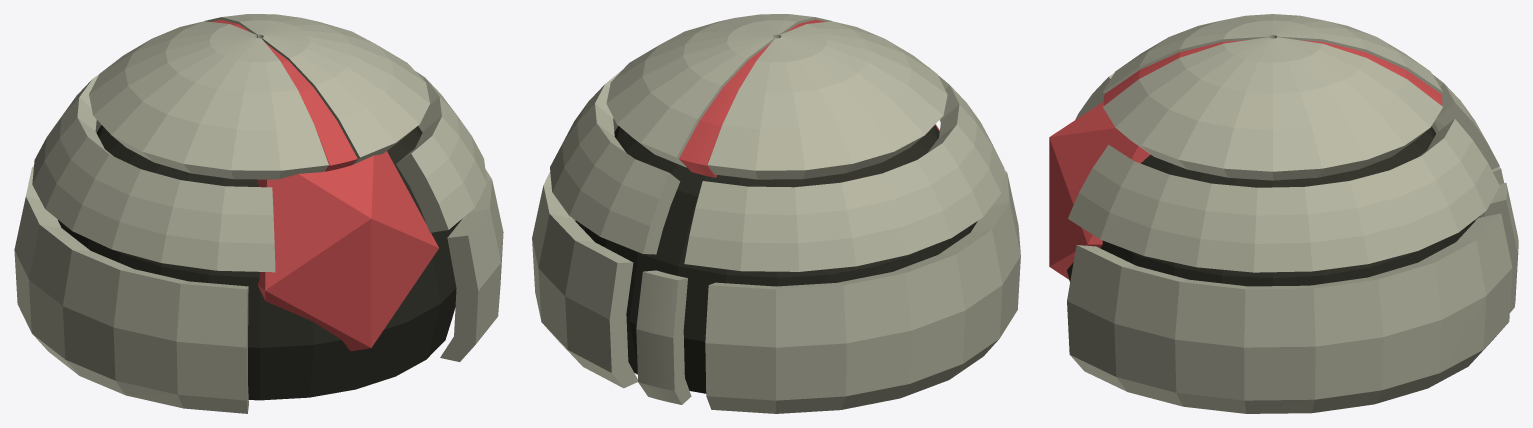
Rendered from vge_mech_grav_engine_orb.obj.
3 renders of one model, left to right at view 1: azimuth 30°, elevation 25°; view 2: azimuth 150°, elevation 25°; view 3: azimuth 270°, elevation 25°, orthographic.
Parts seen in each view (by area): view 1: vge_mech_grav_engine_orb_6, vge_mech_grav_engine_orb_2, vge_mech_grav_engine_orb_1, vge_mech_grav_engine_orb_4, vge_mech_grav_engine_orb_0, vge_mech_grav_engine_orb_3, vge_mech_grav_engine_orb_5, vge_mech_grav_engine_orb_7, vge_mech_grav_engine_orb_10; view 2: vge_mech_grav_engine_orb_6, vge_mech_grav_engine_orb_4, vge_mech_grav_engine_orb_2, vge_mech_grav_engine_orb_0, vge_mech_grav_engine_orb_3, vge_mech_grav_engine_orb_7, vge_mech_grav_engine_orb_5, vge_mech_grav_engine_orb_8, vge_mech_grav_engine_orb_9; view 3: vge_mech_grav_engine_orb_7, vge_mech_grav_engine_orb_5, vge_mech_grav_engine_orb_3, vge_mech_grav_engine_orb_0, vge_mech_grav_engine_orb_2, vge_mech_grav_engine_orb_1, vge_mech_grav_engine_orb_4, vge_mech_grav_engine_orb_8, vge_mech_grav_engine_orb_9, vge_mech_grav_engine_orb_10.
Part boxes in pixels (left/top/right/bottom): vge_mech_grav_engine_orb_6: left=14, top=132, right=248, bottom=413; vge_mech_grav_engine_orb_2: left=89, top=21, right=328, bottom=179; vge_mech_grav_engine_orb_1: left=257, top=151, right=438, bottom=351; vge_mech_grav_engine_orb_4: left=32, top=74, right=275, bottom=272; vge_mech_grav_engine_orb_0: left=58, top=125, right=460, bottom=400; vge_mech_grav_engine_orb_3: left=204, top=14, right=429, bottom=164; vge_mech_grav_engine_orb_5: left=396, top=71, right=486, bottom=232; vge_mech_grav_engine_orb_7: left=440, top=169, right=503, bottom=361; vge_mech_grav_engine_orb_10: left=265, top=43, right=357, bottom=171; vge_mech_grav_engine_orb_6: left=705, top=169, right=1020, bottom=413; vge_mech_grav_engine_orb_4: left=684, top=67, right=1004, bottom=271; vge_mech_grav_engine_orb_2: left=707, top=21, right=947, bottom=179; vge_mech_grav_engine_orb_0: left=575, top=125, right=977, bottom=393; vge_mech_grav_engine_orb_3: left=606, top=14, right=831, bottom=167; vge_mech_grav_engine_orb_7: left=532, top=171, right=637, bottom=388; vge_mech_grav_engine_orb_5: left=550, top=70, right=680, bottom=254; vge_mech_grav_engine_orb_8: left=636, top=270, right=691, bottom=404; vge_mech_grav_engine_orb_9: left=679, top=43, right=770, bottom=177; vge_mech_grav_engine_orb_7: left=1067, top=213, right=1512, bottom=413; vge_mech_grav_engine_orb_5: left=1068, top=119, right=1499, bottom=272; vge_mech_grav_engine_orb_3: left=1103, top=37, right=1442, bottom=180; vge_mech_grav_engine_orb_0: left=1067, top=126, right=1474, bottom=286; vge_mech_grav_engine_orb_2: left=1103, top=14, right=1442, bottom=93; vge_mech_grav_engine_orb_1: left=1049, top=101, right=1150, bottom=279; vge_mech_grav_engine_orb_4: left=1075, top=73, right=1499, bottom=169; vge_mech_grav_engine_orb_8: left=1484, top=182, right=1518, bottom=312; vge_mech_grav_engine_orb_9: left=1301, top=40, right=1442, bottom=105; vge_mech_grav_engine_orb_10: left=1103, top=40, right=1244, bottom=105.
Bounding box in the file's own units: 1.78 × 1.14 × 1.72.
